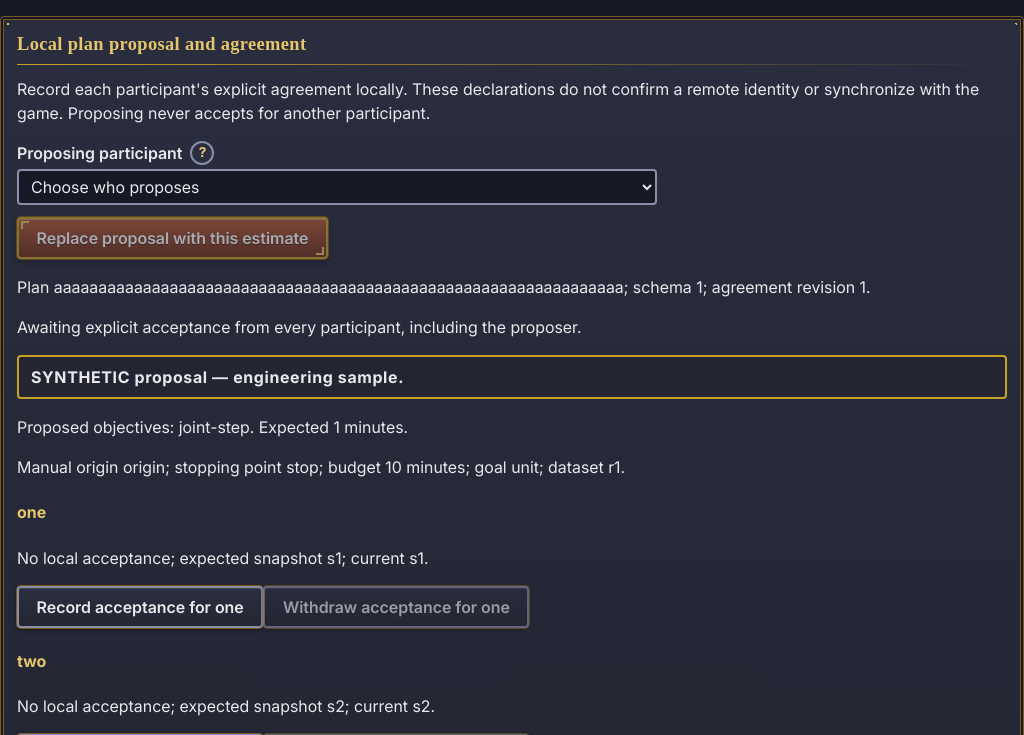
Test: refreshes authoritative agreement after a guard conflict
Expected: the text "Awaiting explicit acceptance" is shown, [17,317,582,337]
What coordinates should you click on to do the following:
click the button "Record acceptance for one"
I would click on:
 (140, 607)
Its box is [17,586,263,628].
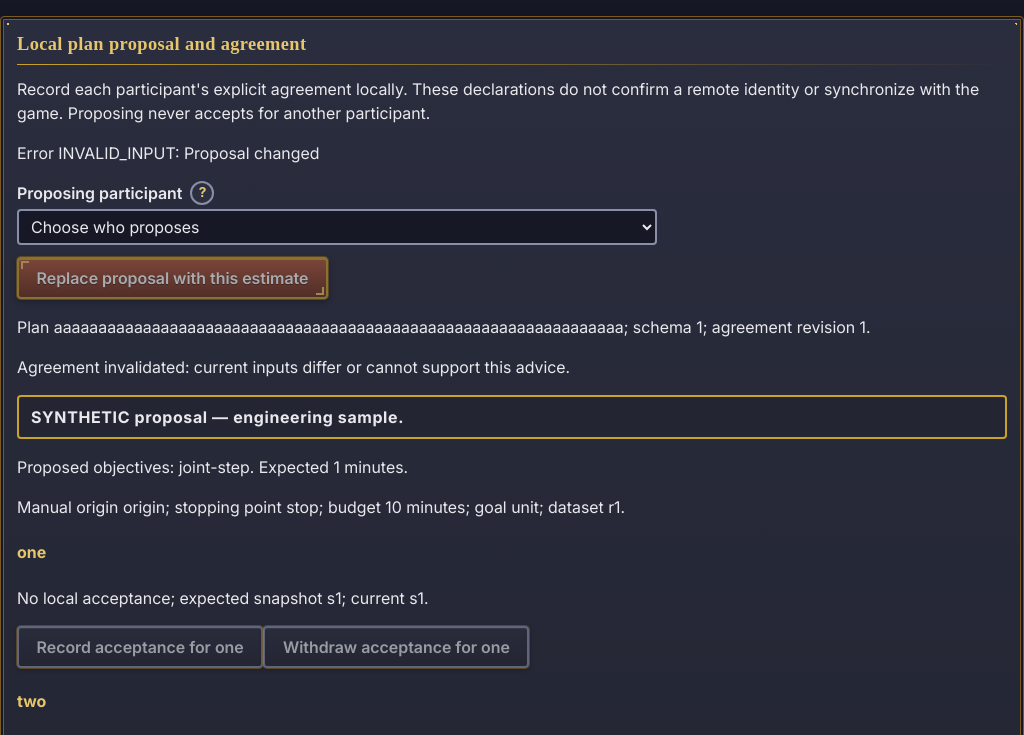
Result: the text "Agreement invalidated" is shown at [17,357,570,377]
Result: the message shows "Proposal changed" at [184,143,320,163]
